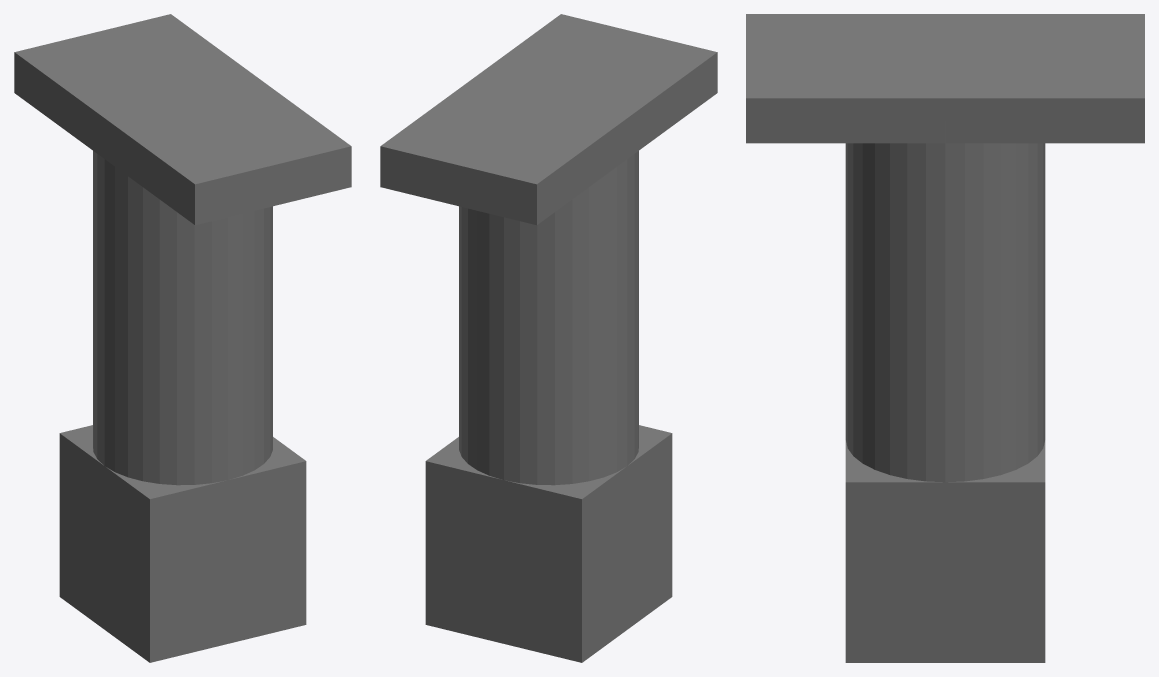
File: arm.obj
3 views of the same model, side by side, from view 1: azimuth 30°, elevation 25°; view 2: azimuth 150°, elevation 25°; view 3: azimuth 270°, elevation 25° (orthographic). The views are drawn at different scales.
Visible parts, largest first — view 1: Cylinder, Cube, Cube.001; view 2: Cylinder, Cube, Cube.001; view 3: Cylinder, Cube.001, Cube.
Part boxes in pixels (x1,y1,x2,y2): Cylinder: (93,151,272,485); Cube: (59,425,306,662); Cube.001: (14,14,351,225); Cylinder: (459,151,638,485); Cube: (425,425,672,662); Cube.001: (380,14,717,225); Cylinder: (845,121,1045,482); Cube.001: (746,14,1144,143); Cube: (845,440,1045,662).
Size of the model in its own units: 2 by 6.25 by 4.
Materials: 1 (1 with a texture image).
